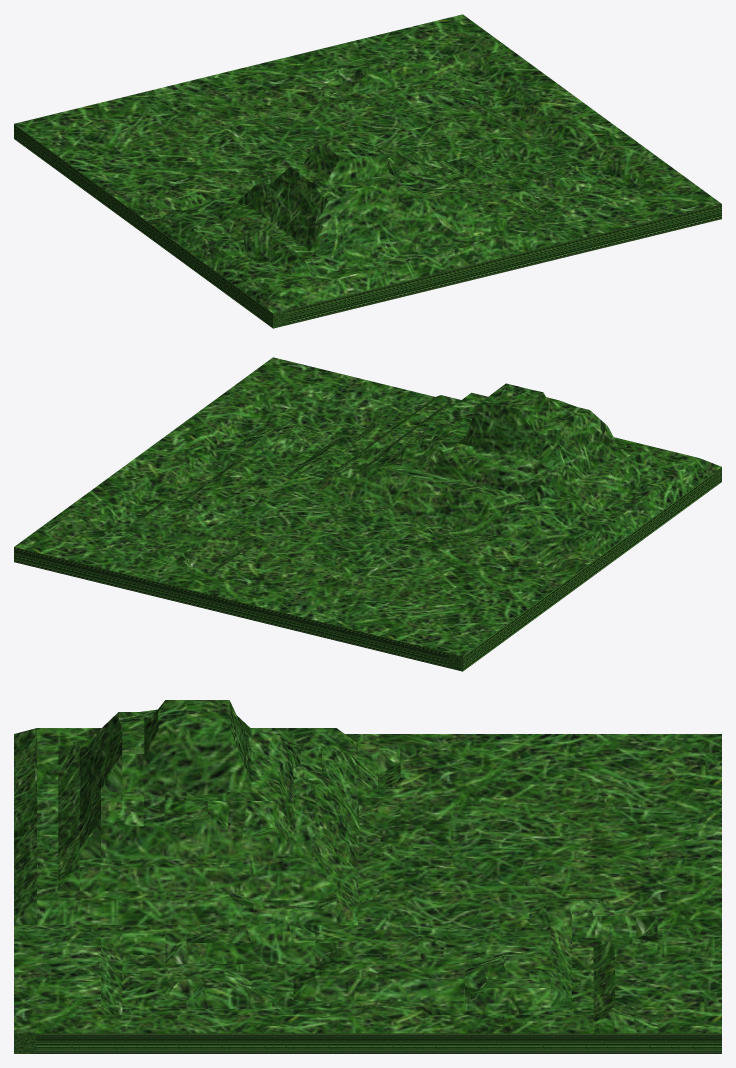
Rendered from DasMap.gltf.
3 views of the same model, one above another, from view 1: azimuth 30°, elevation 25°; view 2: azimuth 150°, elevation 25°; view 3: azimuth 270°, elevation 25° (orthographic). The views are drawn at different scales.
Visible parts, largest first — view 1: Cube; view 2: Cube; view 3: Cube.
Boxes of the visible parts, x1,y1,x2,y2 form: Cube: (14,14,721,328); Cube: (14,357,721,671); Cube: (14,700,721,1053).
Bounding box in the file's own units: 62 × 13.22 × 62.
Materials: 1 (1 with a texture image).
